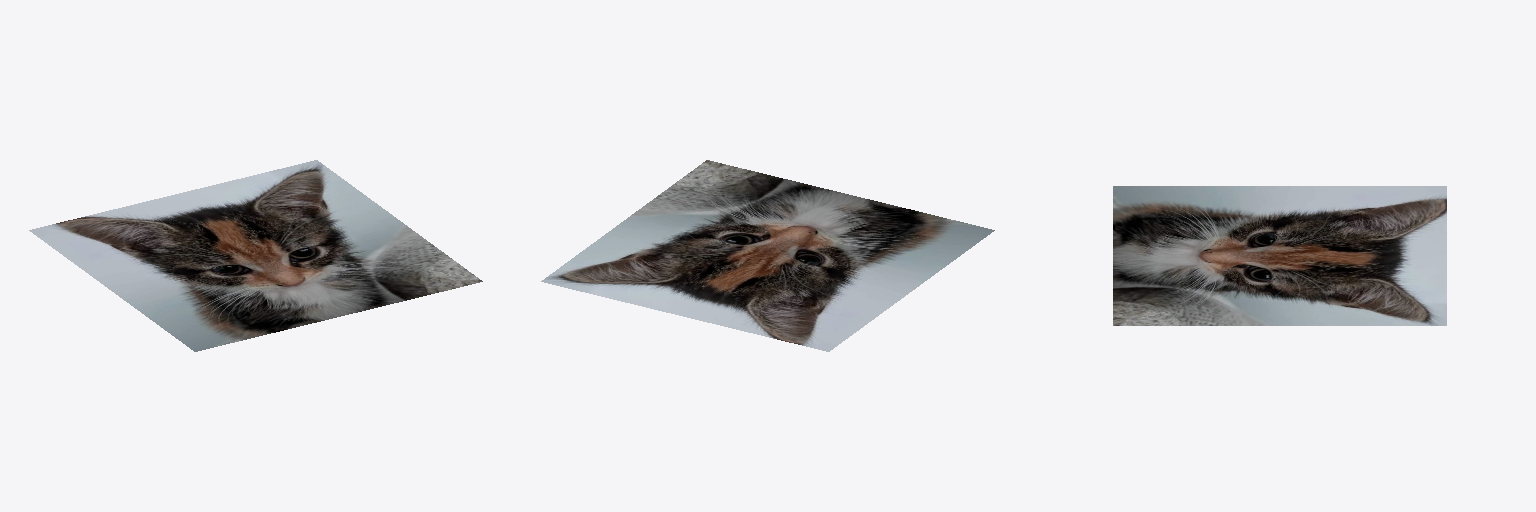
3 views of the same model, side by side, from view 1: azimuth 30°, elevation 25°; view 2: azimuth 150°, elevation 25°; view 3: azimuth 270°, elevation 25° (orthographic).
Parts seen in each view (by area): view 1: Plane; view 2: Plane; view 3: Plane.
Boxes of the visible parts, box(x1,y1,x2,y2) form: Plane: box(29, 160, 482, 351); Plane: box(541, 160, 994, 351); Plane: box(1113, 186, 1446, 325).
Size of the model in its own units: 2 by 0 by 2.
Materials: 1 (1 with a texture image).